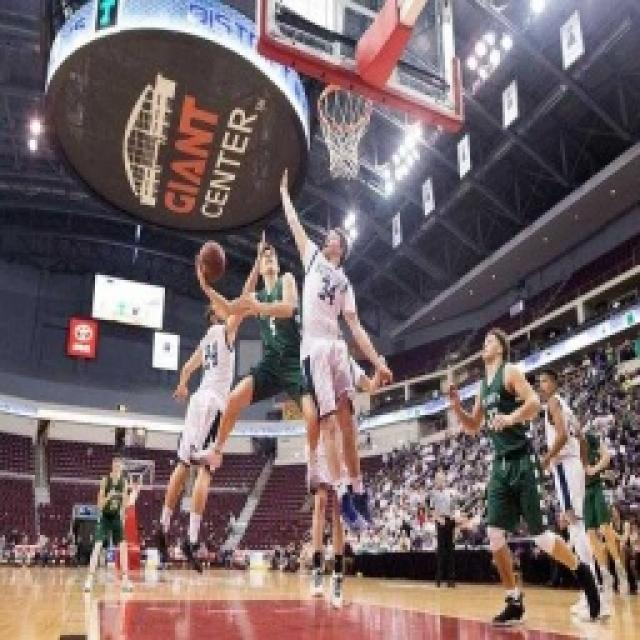rim: (196, 240, 226, 278)
